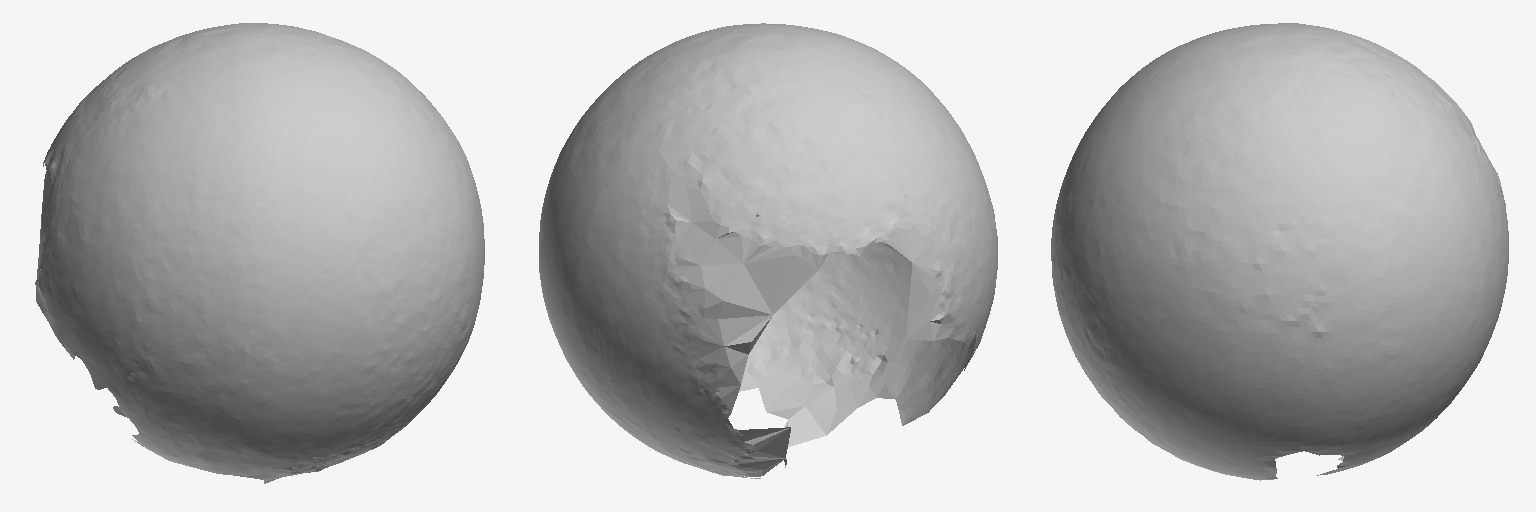
The model's file is Gridtest_1_1_2.000001.obj.
3 views of the same model, side by side, from view 1: azimuth 30°, elevation 25°; view 2: azimuth 150°, elevation 25°; view 3: azimuth 270°, elevation 25° (orthographic).
Bounding box in the file's own units: 301 × 304 × 298.